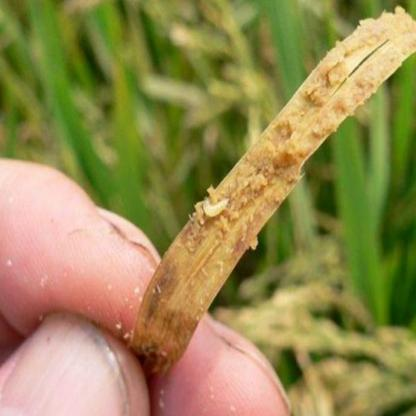whorl-maggot: (202, 190, 232, 222)
